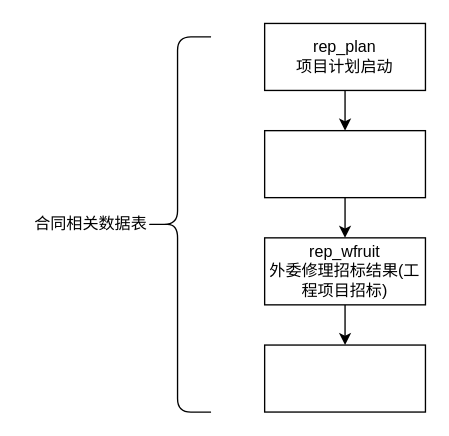
This 449x436 diagram has some shape labels left out. Each missing label, with the centre of its shape:
"rep_w 外委修理审批" belongs at [344,163].
"rep_wcontract 工程项目合同审批" belongs at [344,378].
